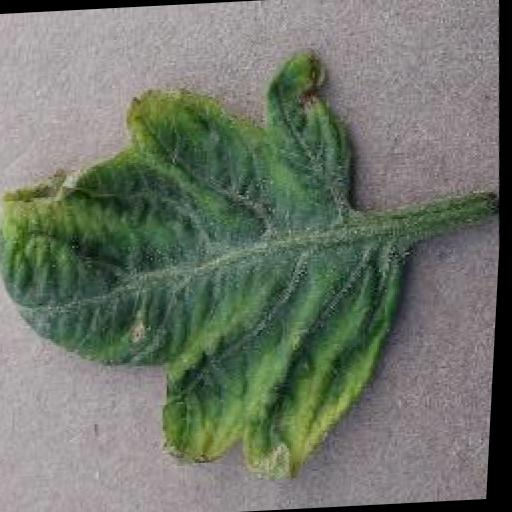Yellow Leaf Curl Virus: (0, 46, 430, 495)
